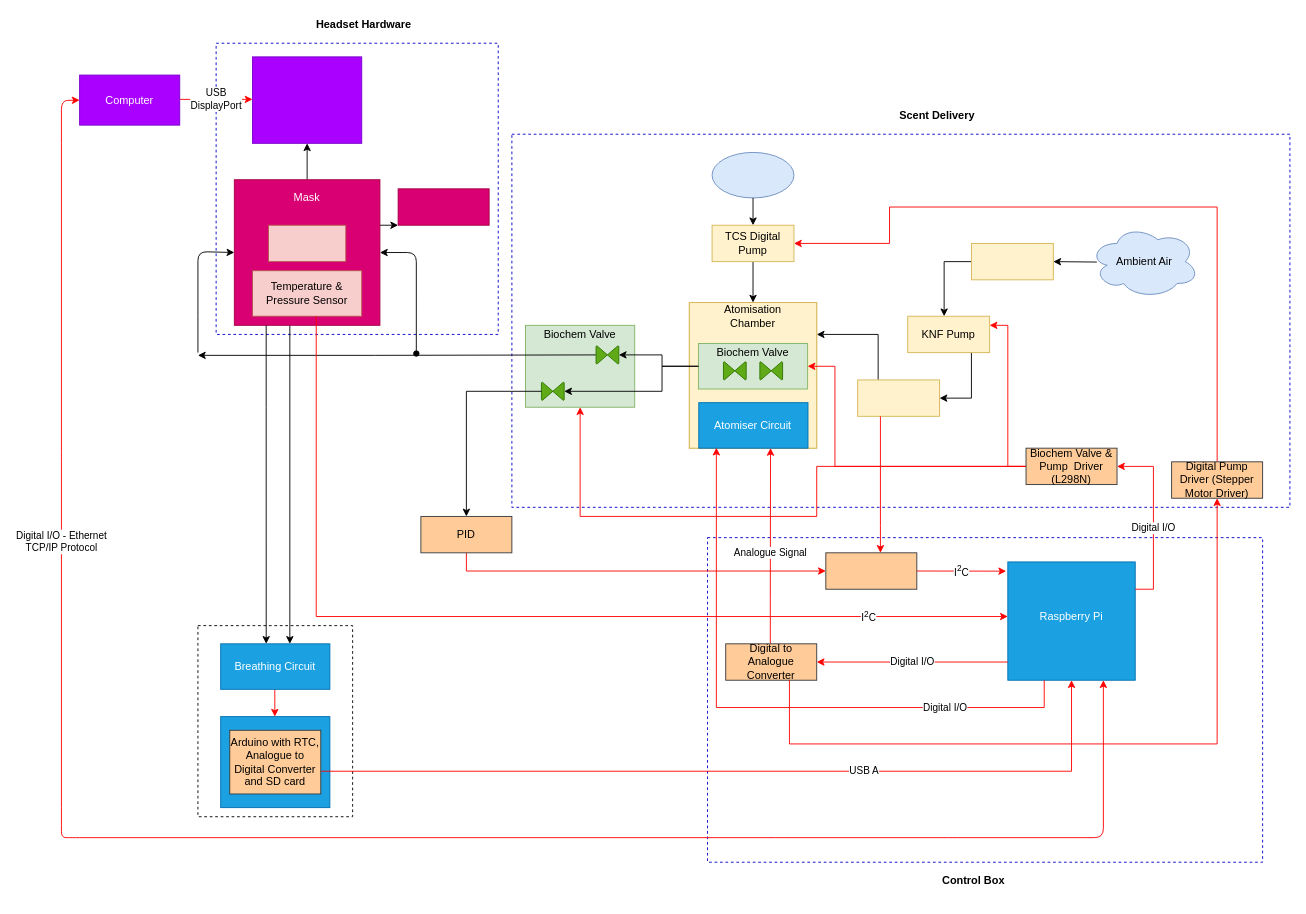
The diagram is 1306 pixels wide and 914 high, and some of its shapes have lost their labels. Each missing label, with the centre of its shape:
Analogue to Digital Converter: pixel 871 570
Filter: pixel 1012 261
Flow Meter: pixel 898 397
Olfactory Organ: pixel 443 206
Vent: pixel 307 243
VR Headset: pixel 307 99
Water: pixel 752 175
